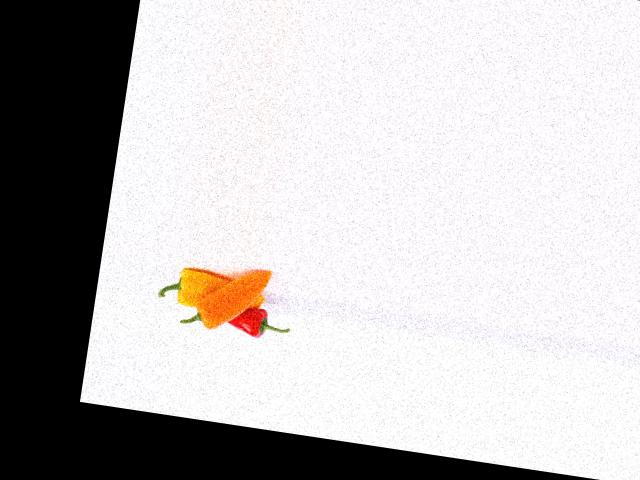bell_pepper: (153, 256, 242, 317)
